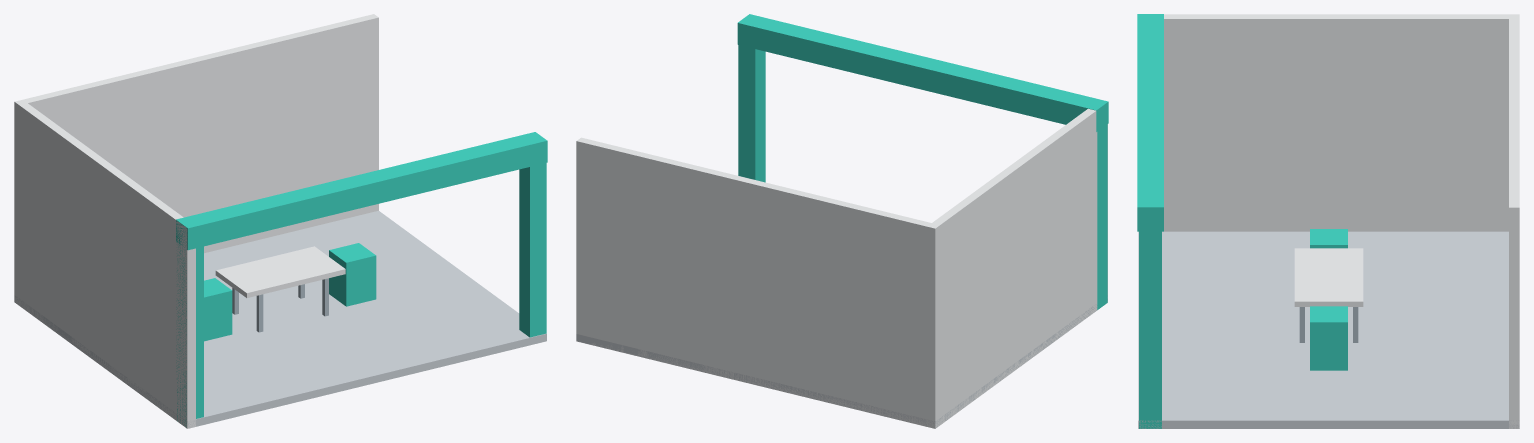
3 renders of one model, left to right at view 1: azimuth 30°, elevation 25°; view 2: azimuth 150°, elevation 25°; view 3: azimuth 270°, elevation 25°, orthographic. The views are drawn at different scales.
Visible parts, largest first — view 1: Exhibition Booth Concept; view 2: Exhibition Booth Concept; view 3: Exhibition Booth Concept.
Part boxes in pixels (box(x1,y1,x2,y2)): Exhibition Booth Concept: box(14, 14, 547, 428); Exhibition Booth Concept: box(576, 14, 1108, 428); Exhibition Booth Concept: box(1137, 14, 1519, 428).
Size of the model in its own units: 6 by 3.2 by 5.02.
